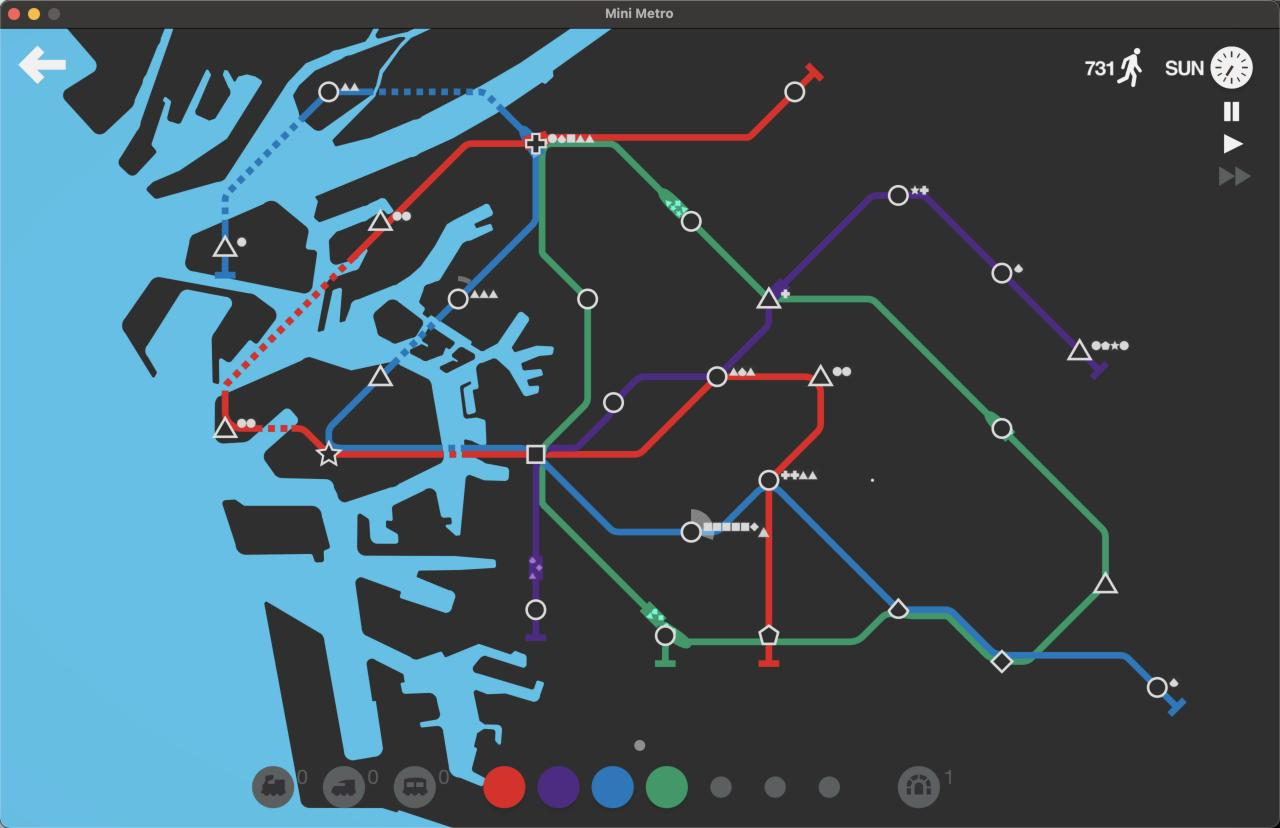BLUE LINE: (774, 487, 897, 608), (221, 98, 321, 237), (326, 388, 526, 451), (464, 153, 540, 296), (544, 459, 681, 537), (339, 89, 532, 134), (384, 304, 455, 375), (909, 605, 1001, 656), (1010, 652, 1150, 682), (702, 486, 764, 539), (1163, 693, 1187, 717), (214, 257, 236, 279)
DARK GREEN LINE: (781, 292, 1002, 426), (539, 465, 665, 626), (1010, 433, 1110, 571), (550, 142, 686, 217), (542, 308, 593, 447), (538, 153, 584, 293), (697, 228, 766, 296), (908, 613, 993, 662), (1034, 592, 1099, 651), (778, 612, 889, 646), (675, 629, 764, 647), (654, 646, 677, 668), (1013, 660, 1035, 666)
PURPLE LINE: (773, 191, 887, 298), (911, 192, 999, 268), (1009, 278, 1077, 349), (724, 309, 772, 372), (551, 412, 614, 450), (621, 372, 706, 398), (532, 465, 540, 599), (1086, 359, 1112, 379), (526, 619, 546, 642)
RED LINE: (219, 231, 382, 420), (547, 382, 712, 458), (387, 139, 524, 225), (542, 98, 791, 142), (776, 386, 825, 476), (231, 417, 324, 448), (338, 451, 524, 460), (765, 489, 772, 626), (728, 372, 814, 381), (799, 64, 824, 86), (759, 646, 781, 668)
